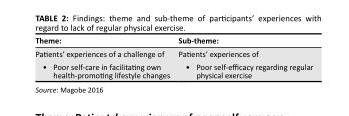table: (34, 34, 312, 79)
table column: (34, 34, 173, 79), (173, 34, 312, 79)
table column header: (34, 34, 312, 46)
table row: (34, 59, 312, 79), (34, 46, 312, 59), (34, 34, 312, 46)
